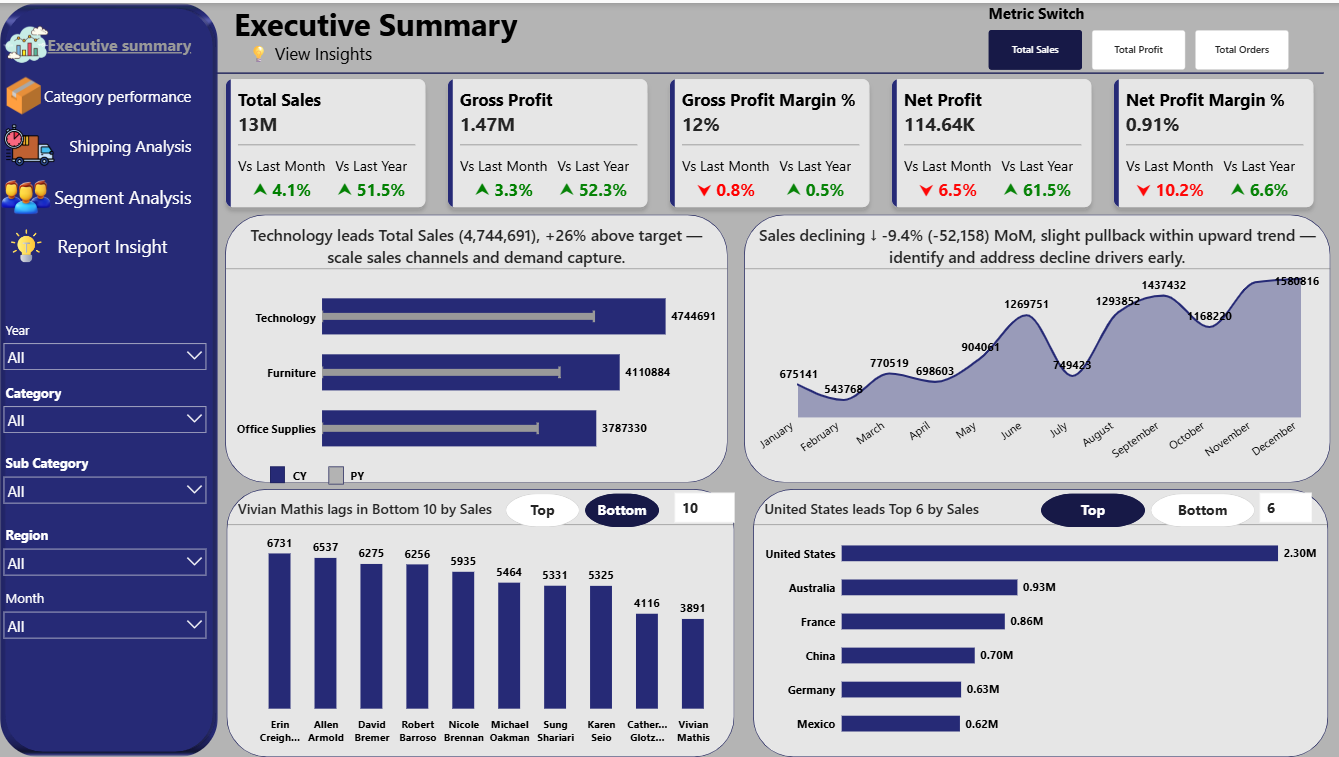

The dashboard page shown, as its layout file describes it:
{"tool":"powerbi","page":{"name":"Executive Summary","canvas":[1920,1080],"ordinal":0},"visuals":[{"type":"image","box":[0,0,312,1080],"z":0,"group":"g23"},{"type":"group","id":"g1","title":"Group 10","box":[336,0,1512,96],"z":0,"group":"g18"},{"type":"advancedSlicerVisual","fields":{"Values":["Metric Switch.Metric Switch"]},"box":[1416,0,432,96],"z":0,"group":"g1"},{"type":"group","id":"g2","title":"Group 8","box":[0,24,274.2,288],"z":0,"group":"g20"},{"type":"group","id":"g3","title":"Group 6","box":[0,24,84.4,288],"z":0,"group":"g2"},{"type":"shape","box":[0,24,274.2,72],"z":0,"group":"g10"},{"type":"actionButton","box":[0,24,288,72],"z":0,"group":"g11"},{"type":"cardVisual","fields":{"Data":["Calculated Measures.Total Sales","Calculated Measures.Total Profit","Calculated Measures.Profit Margin %","Calculated Measures.Profit After Shipping","Calculated Measures.Profit Margin After Shipping"]},"box":[312,96,1584,208],"z":0},{"type":"image","box":[0,168,84.4,72],"z":0,"group":"g3"},{"type":"clusteredBarChart","fields":{"Y":["Calculated Measures.Total Sales"],"Category":["Superstore Data.Category"]},"box":[322,302,720,384],"z":0,"group":"g13"},{"type":"shape","box":[322,302,720,384],"z":0,"group":"g12"},{"type":"group","id":"g4","title":"Group 9","box":[1065,302,840,384],"z":0,"group":"g22"},{"type":"shape","box":[1065,302,840,384],"z":0,"group":"g4"},{"type":"slicer","fields":{"Values":["Date_Table.Year"]},"box":[0,456,300,72],"z":0,"group":"g19"},{"type":"group","id":"g5","title":"Group 1","box":[470.2,662.2,64,25.8],"z":0,"group":"g14"},{"type":"shape","box":[490.1,662.2,44.1,25.8],"z":0,"group":"g5"},{"type":"group","id":"g6","title":"Group 11","box":[325,696,751,384],"z":0,"group":"g15"},{"type":"group","id":"g7","title":"Group 3","box":[325,696,727.5,384],"z":0,"group":"g6"},{"type":"shape","box":[325,696,727.5,384],"z":0,"group":"g7"},{"type":"group","id":"g8","title":"Group 2","box":[1080,696,824,384],"z":0,"group":"g21"},{"type":"group","id":"g9","title":"Group 7","box":[1080,696,824,384],"z":0,"group":"g8"},{"type":"shape","box":[1080,696,824,384],"z":0,"group":"g9"},{"type":"advancedSlicerVisual","fields":{"Values":["Top/Bottom.Value"]},"box":[724,701.7,220.3,48],"z":0,"group":"g16"},{"type":"advancedSlicerVisual","fields":{"Values":["Top/Bottom.Value"]},"box":[1492,701.7,308,48],"z":0,"group":"g17"},{"type":"shape","box":[0,0,312,1080],"z":1000,"group":"g23"},{"type":"shape","box":[336,0,648,96],"z":1000,"group":"g1"},{"type":"group","id":"g10","title":"Group 7","box":[0,24,274.2,288],"z":1000,"group":"g2"},{"type":"group","id":"g11","title":"Group 9","box":[0,24,288,288],"z":1000,"group":"g20"},{"type":"shape","box":[288,65,1608,72],"z":1000},{"type":"image","box":[0,96,68,72],"z":1000,"group":"g3"},{"type":"shape","box":[0,96,274.2,72],"z":1000,"group":"g10"},{"type":"actionButton","box":[0,96,288,72],"z":1000,"group":"g11"},{"type":"group","id":"g12","title":"Group 8","box":[322,302,720,384],"z":1000,"group":"g22"},{"type":"group","id":"g13","title":"Group 4","box":[322,302,720,384],"z":1000,"group":"g12"},{"type":"areaChart","fields":{"Y":["Calculated Measures.Total Sales"],"Category":["Date_Table.Month"]},"box":[1065,302,840,384],"z":1000,"group":"g4"},{"type":"group","id":"g14","title":"Group 5","box":[385.5,662.2,148.2,23.8],"z":1000,"group":"g13"},{"type":"shape","box":[406.7,662.2,42.4,23.8],"z":1000,"group":"g14"},{"type":"shape","box":[470.2,662.2,22.1,25.8],"z":1000,"group":"g5"},{"type":"group","id":"g15","title":"Group 13","box":[325,696,751,384],"z":1000,"group":"g21"},{"type":"clusteredColumnChart","fields":{"Y":["Calculated Measures.Total Sales"],"Category":["Superstore Data.Customer Name"]},"box":[325,696,727.5,384],"z":1000,"group":"g7"},{"type":"group","id":"g16","title":"Group 6","box":[724,696,328.6,76.8],"z":1000,"group":"g15"},{"type":"slicer","fields":{"Values":["Parameter.Parameter"]},"box":[958.7,696,93.9,76.8],"z":1000,"group":"g16"},{"type":"clusteredBarChart","fields":{"Y":["Calculated Measures.Total Sales"],"Category":["Superstore Data.Country"]},"box":[1080,696,824,384],"z":1000,"group":"g9"},{"type":"group","id":"g17","title":"Group 6","box":[1492,696,387.8,82.3],"z":1000,"group":"g8"},{"type":"slicer","fields":{"Values":["Parameter.Parameter"]},"box":[1797.4,696,82.4,82.3],"z":1000,"group":"g17"},{"type":"slicer","fields":{"Values":["Superstore Data.Region"]},"box":[0,750,300,72],"z":1000,"group":"g19"},{"type":"group","id":"g18","title":"Group 12","box":[336,0,1512,96],"z":2000},{"type":"actionButton","box":[0,168,288,72],"z":2000,"group":"g11"},{"type":"image","box":[0,240,75,72],"z":2000,"group":"g3"},{"type":"shape","box":[0,240,274.2,72],"z":2000,"group":"g10"},{"type":"group","id":"g19","title":"Filter","box":[0,456,300,456],"z":2000,"group":"g23"},{"type":"shape","box":[385.5,662.2,21.2,23.8],"z":2000,"group":"g14"},{"type":"slicer","fields":{"Values":["Date_Table.Month"]},"box":[0,840,300,72],"z":2000,"group":"g19"},{"type":"group","id":"g20","title":"Navigation Menu","box":[0,24,288,288],"z":3000,"group":"g23"},{"type":"image","box":[0,24,74,72],"z":3000,"group":"g3"},{"type":"shape","box":[312,48,264,48],"z":3000},{"type":"shape","box":[0,168,274.2,72],"z":3000,"group":"g10"},{"type":"actionButton","box":[0,240,288,72],"z":3000,"group":"g11"},{"type":"slicer","fields":{"Values":["Superstore Data.Category"]},"box":[0,546,300,96],"z":3000,"group":"g19"},{"type":"shape","box":[0,312,240,72],"z":4000,"group":"g23"},{"type":"slicer","fields":{"Values":["Superstore Data.Sub Category"]},"box":[0,648,300,72],"z":4000,"group":"g19"},{"type":"group","id":"g21","title":"Group 16","box":[325,696,1579,384],"z":4000},{"type":"group","id":"g22","title":"Group 17","box":[322,302,1583,384],"z":5000},{"type":"image","box":[0,312,75,72],"z":5000,"group":"g23"},{"type":"actionButton","box":[0,312,264,72],"z":6000,"group":"g23"},{"type":"group","id":"g23","title":"Right Panel","box":[0,0,312,1080],"z":7000}]}

Visuals, with their boxes in screenshot pixels (x1, y1, x2, y2), scaled from the page's 1920x1080 canvas onto the 1339x757 screenshot:
image: bbox=[0, 0, 218, 756]
"Group 10" group: bbox=[234, 0, 1289, 67]
advancedSlicerVisual - Metric Switch.Metric Switch: bbox=[988, 0, 1289, 67]
"Group 8" group: bbox=[0, 17, 191, 219]
"Group 6" group: bbox=[0, 17, 59, 219]
shape: bbox=[0, 17, 191, 67]
actionButton: bbox=[0, 17, 201, 67]
cardVisual - Calculated Measures.Total Sales x Calculated Measures.Total Profit: bbox=[218, 67, 1322, 213]
image: bbox=[0, 118, 59, 168]
clusteredBarChart - Calculated Measures.Total Sales x Superstore Data.Category: bbox=[225, 212, 727, 481]
shape: bbox=[225, 212, 727, 481]
"Group 9" group: bbox=[743, 212, 1329, 481]
shape: bbox=[743, 212, 1329, 481]
slicer - Date_Table.Year: bbox=[0, 320, 209, 370]
"Group 1" group: bbox=[328, 464, 373, 482]
shape: bbox=[342, 464, 373, 482]
"Group 11" group: bbox=[227, 488, 750, 756]
"Group 3" group: bbox=[227, 488, 734, 756]
shape: bbox=[227, 488, 734, 756]
"Group 2" group: bbox=[753, 488, 1328, 756]
"Group 7" group: bbox=[753, 488, 1328, 756]
shape: bbox=[753, 488, 1328, 756]
advancedSlicerVisual - Top/Bottom.Value: bbox=[505, 492, 659, 525]
advancedSlicerVisual - Top/Bottom.Value: bbox=[1041, 492, 1255, 525]
shape: bbox=[0, 0, 218, 756]
shape: bbox=[234, 0, 686, 67]
"Group 7" group: bbox=[0, 17, 191, 219]
"Group 9" group: bbox=[0, 17, 201, 219]
shape: bbox=[201, 46, 1322, 96]
image: bbox=[0, 67, 47, 118]
shape: bbox=[0, 67, 191, 118]
actionButton: bbox=[0, 67, 201, 118]
"Group 8" group: bbox=[225, 212, 727, 481]
"Group 4" group: bbox=[225, 212, 727, 481]
areaChart - Calculated Measures.Total Sales x Date_Table.Month: bbox=[743, 212, 1329, 481]
"Group 5" group: bbox=[269, 464, 372, 481]
shape: bbox=[284, 464, 313, 481]
shape: bbox=[328, 464, 343, 482]
"Group 13" group: bbox=[227, 488, 750, 756]
clusteredColumnChart - Calculated Measures.Total Sales x Superstore Data.Customer Name: bbox=[227, 488, 734, 756]
"Group 6" group: bbox=[505, 488, 734, 542]
slicer - Parameter.Parameter: bbox=[669, 488, 734, 542]
clusteredBarChart - Calculated Measures.Total Sales x Superstore Data.Country: bbox=[753, 488, 1328, 756]
"Group 6" group: bbox=[1041, 488, 1311, 546]
slicer - Parameter.Parameter: bbox=[1253, 488, 1311, 546]
slicer - Superstore Data.Region: bbox=[0, 526, 209, 576]
"Group 12" group: bbox=[234, 0, 1289, 67]
actionButton: bbox=[0, 118, 201, 168]
image: bbox=[0, 168, 52, 219]
shape: bbox=[0, 168, 191, 219]
"Filter" group: bbox=[0, 320, 209, 639]
shape: bbox=[269, 464, 284, 481]
slicer - Date_Table.Month: bbox=[0, 589, 209, 639]
"Navigation Menu" group: bbox=[0, 17, 201, 219]
image: bbox=[0, 17, 52, 67]
shape: bbox=[218, 34, 402, 67]
shape: bbox=[0, 118, 191, 168]
actionButton: bbox=[0, 168, 201, 219]
slicer - Superstore Data.Category: bbox=[0, 383, 209, 450]
shape: bbox=[0, 219, 167, 269]
slicer - Superstore Data.Sub Category: bbox=[0, 454, 209, 505]
"Group 16" group: bbox=[227, 488, 1328, 756]
"Group 17" group: bbox=[225, 212, 1329, 481]
image: bbox=[0, 219, 52, 269]
actionButton: bbox=[0, 219, 184, 269]
"Right Panel" group: bbox=[0, 0, 218, 756]
